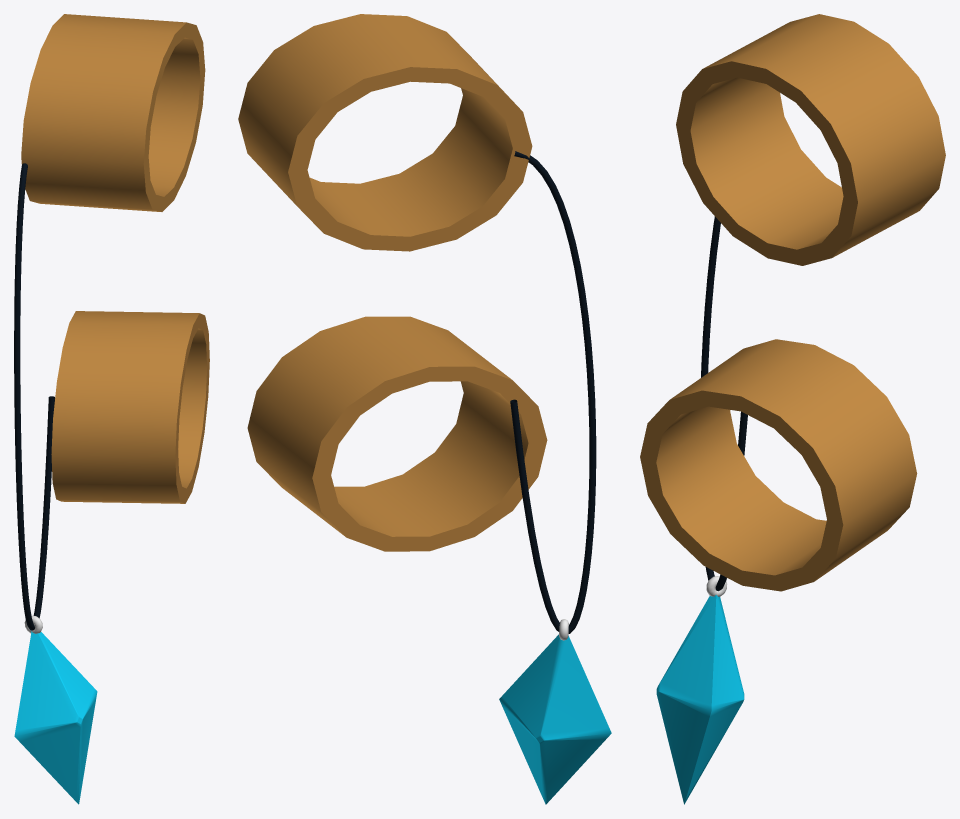
3 views of the same model, side by side, from view 1: azimuth 30°, elevation 25°; view 2: azimuth 150°, elevation 25°; view 3: azimuth 270°, elevation 25° (orthographic). The views are drawn at different scales.
Visible parts, largest first — view 1: Tube_2, Tube, crystals_013, strings_001; view 2: Tube, Tube_2, crystals_013, strings_001; view 3: Tube_2, Tube, crystals_013, strings_001.
Boxes of the visible parts, left/top/right/bottom form: Tube_2: left=21, top=14, right=205, bottom=211; Tube: left=51, top=311, right=209, bottom=503; crystals_013: left=14, top=631, right=97, bottom=804; strings_001: left=14, top=163, right=54, bottom=630; Tube: left=247, top=316, right=547, bottom=551; Tube_2: left=238, top=14, right=532, bottom=251; crystals_013: left=499, top=634, right=611, bottom=804; strings_001: left=510, top=151, right=596, bottom=633; Tube_2: left=676, top=14, right=945, bottom=265; Tube: left=640, top=339, right=917, bottom=591; crystals_013: left=656, top=595, right=744, bottom=804; strings_001: left=701, top=216, right=747, bottom=591.
Size of the model in its own units: 14.7 by 12.93 by 37.78.
